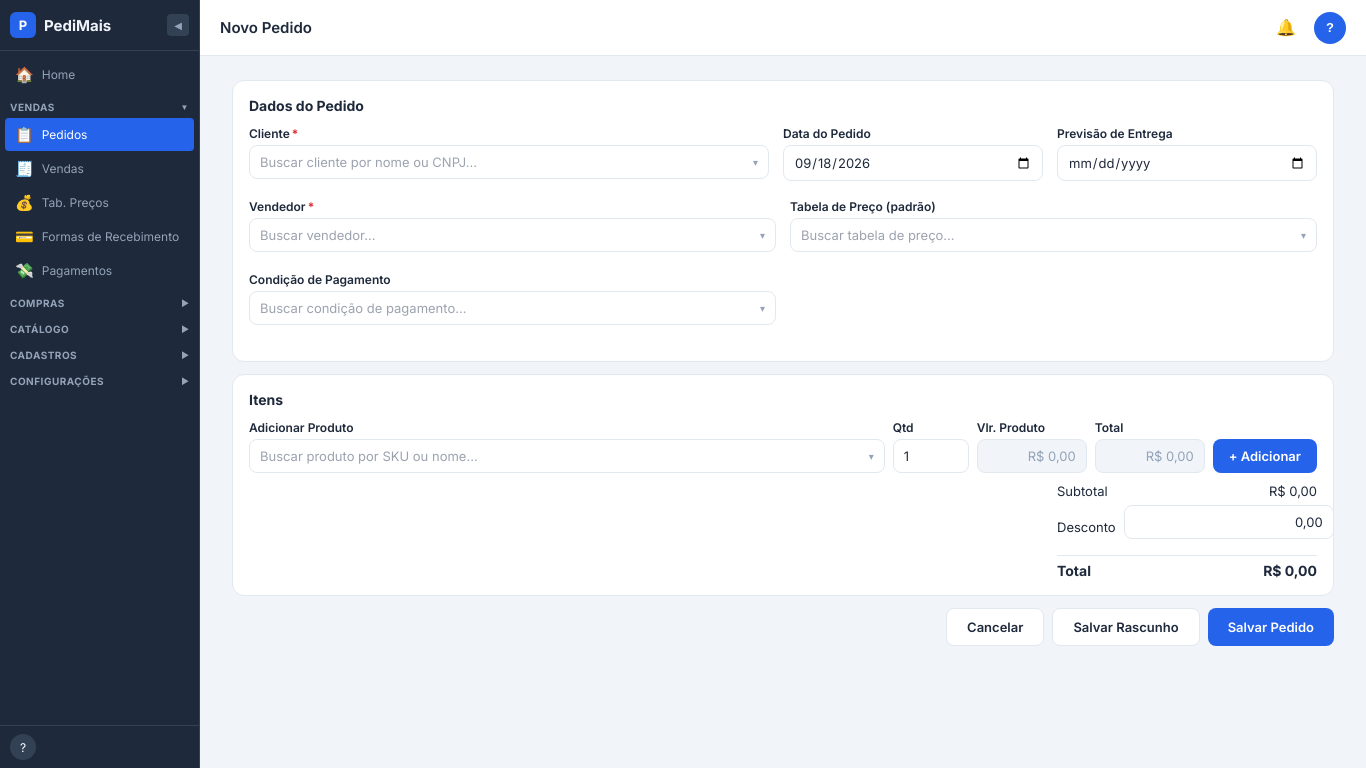
SalesOrderFormView › lets the user pick a Tabela de Preço and a Condição de Pagamento
Step 1. Click the element with test id "price-table" → (1054, 235), box [790, 218, 1317, 252]
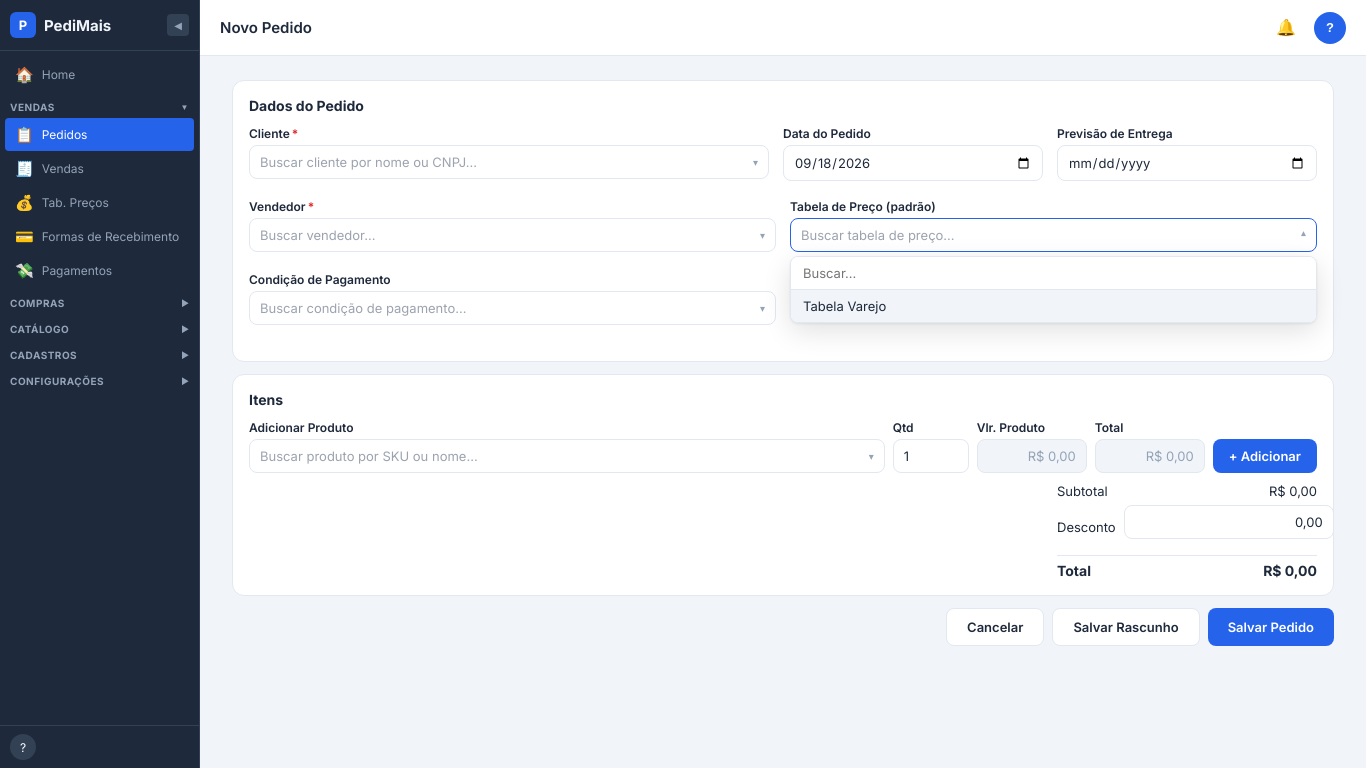
Step 2. Click the element with test id "price-table-option-t1" → (1054, 306), box [791, 290, 1316, 322]
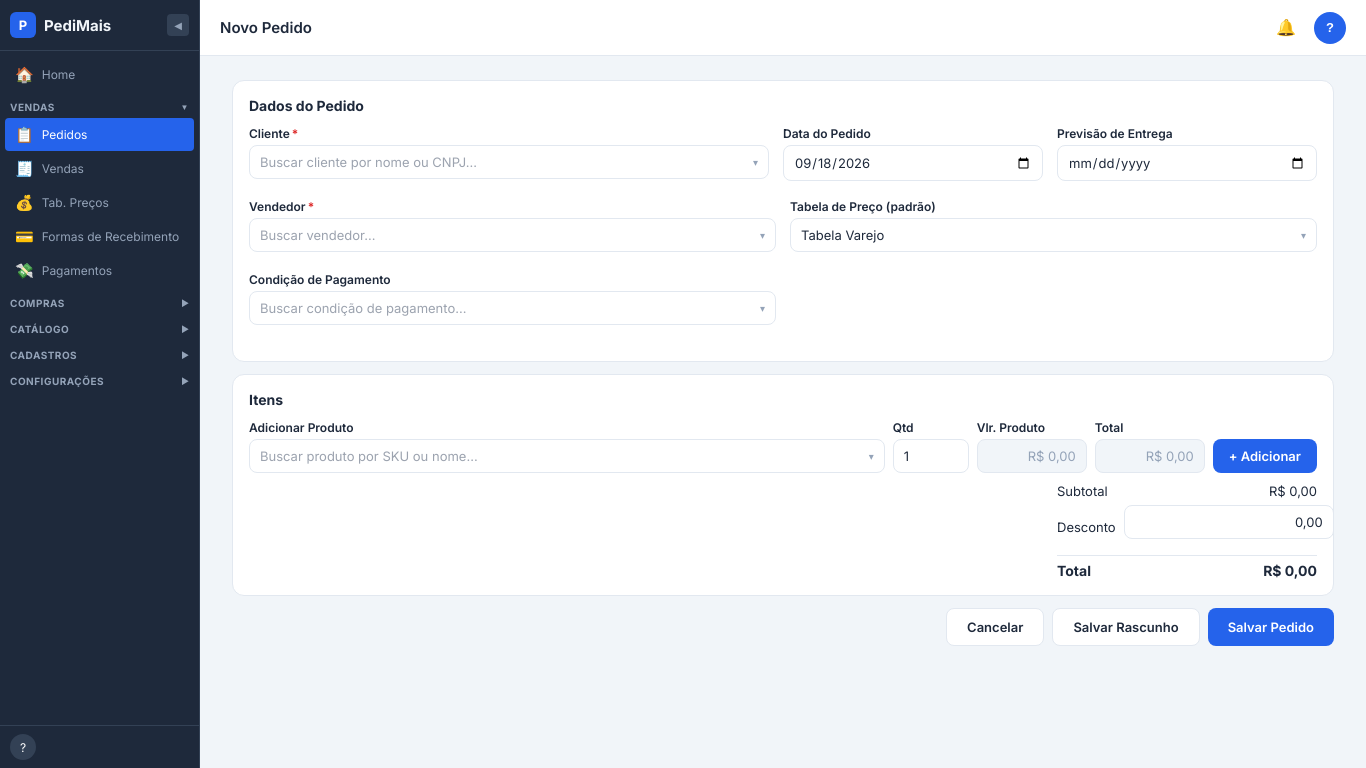
Step 3. Click the element with test id "payment-term" → (512, 308), box [249, 291, 776, 325]
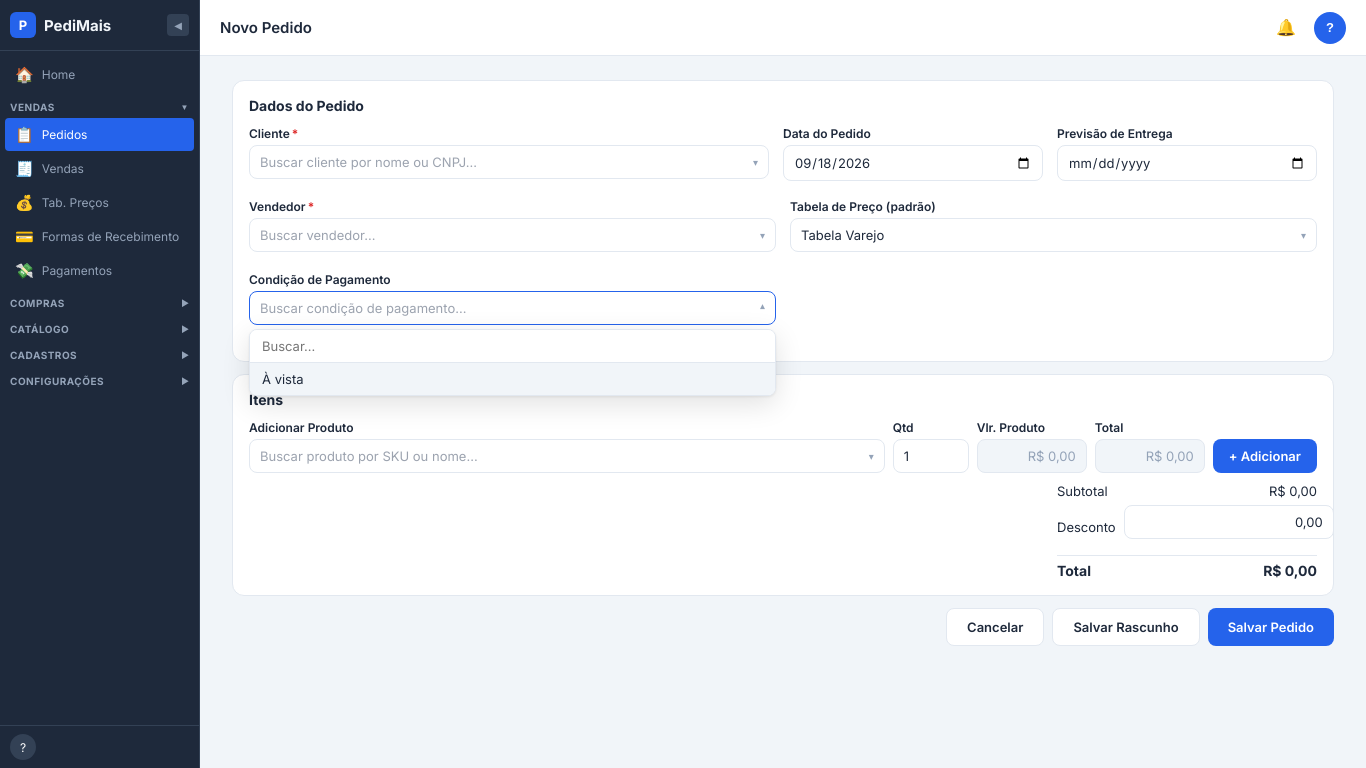
Step 4. Click the element with test id "payment-term-option-pm1" → (512, 379), box [250, 363, 775, 395]
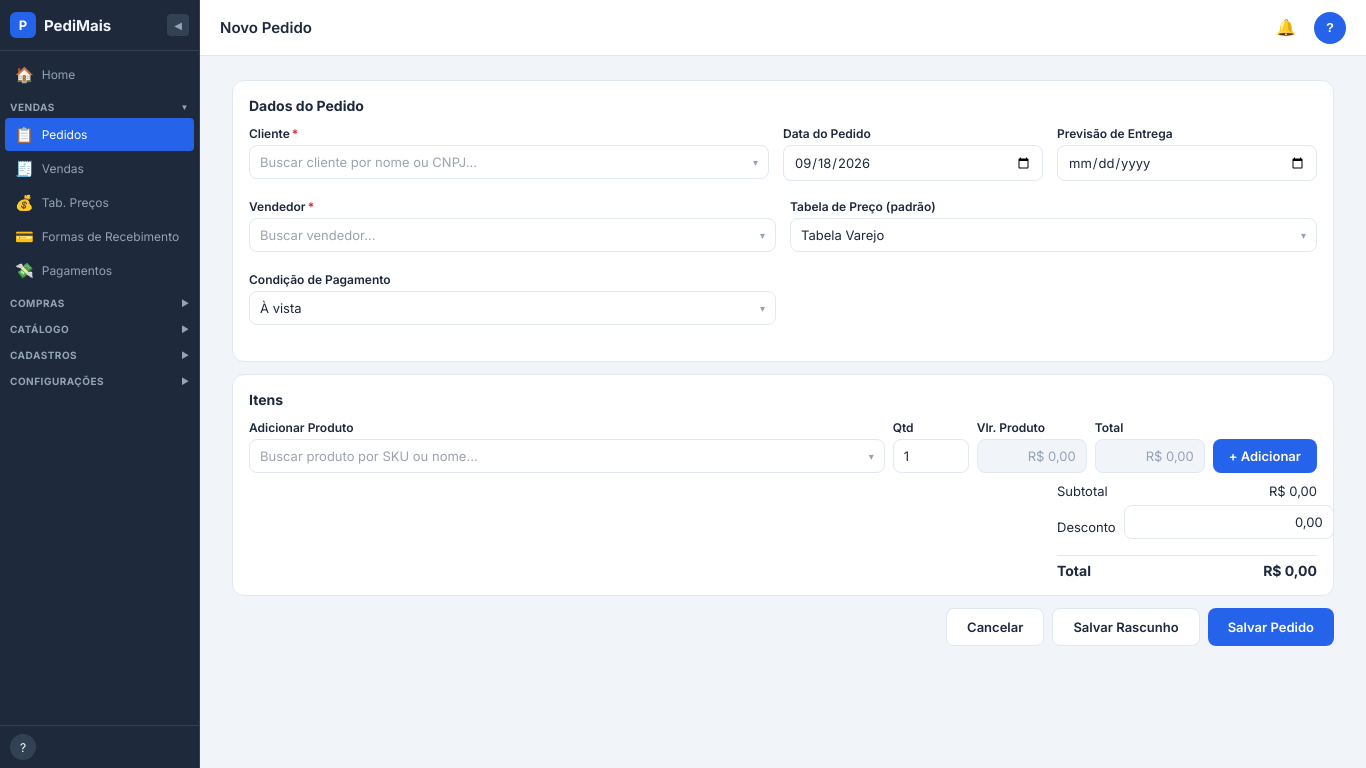
Expected: the element with test id "price-table" shows "Tabela Varejo", [801, 227, 884, 243]
Expected: the element with test id "payment-term" shows "À vista", [260, 300, 302, 316]
